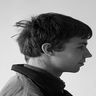ear: (36, 40, 59, 61)
